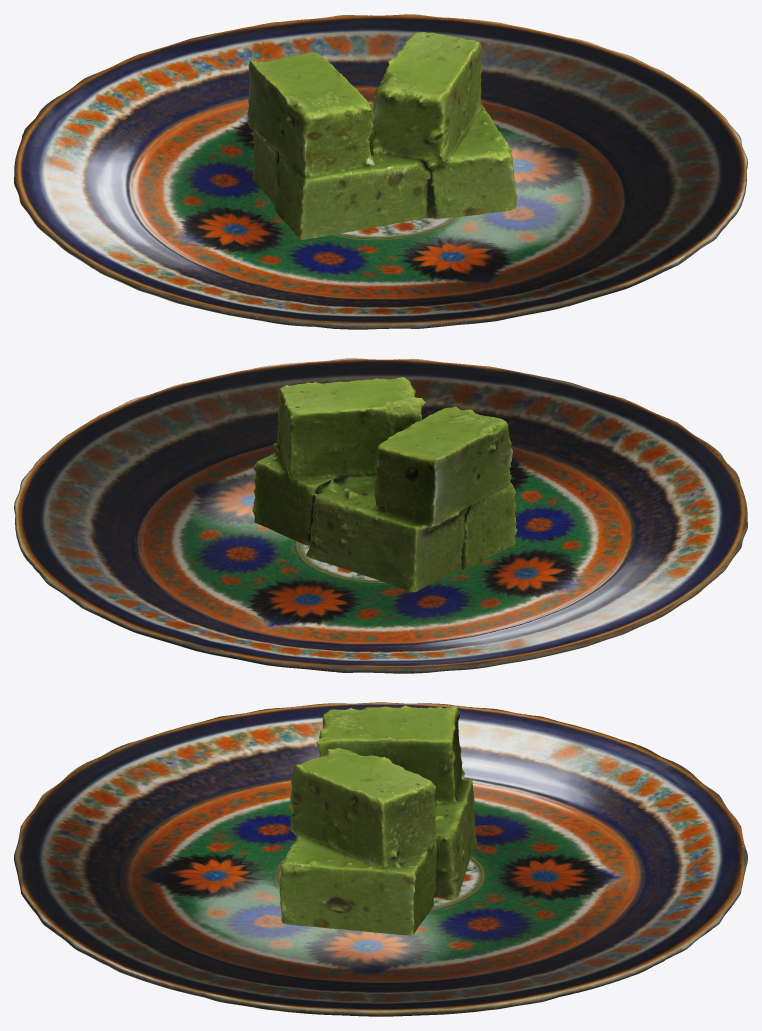
File: barfi.rapid.glb
3 views of the same model, one above another, from view 1: azimuth 30°, elevation 25°; view 2: azimuth 150°, elevation 25°; view 3: azimuth 270°, elevation 25° (orthographic).
Size of the model in its own units: 0.2002 by 0.0403 by 0.2003.
1 material, 1 textured.
